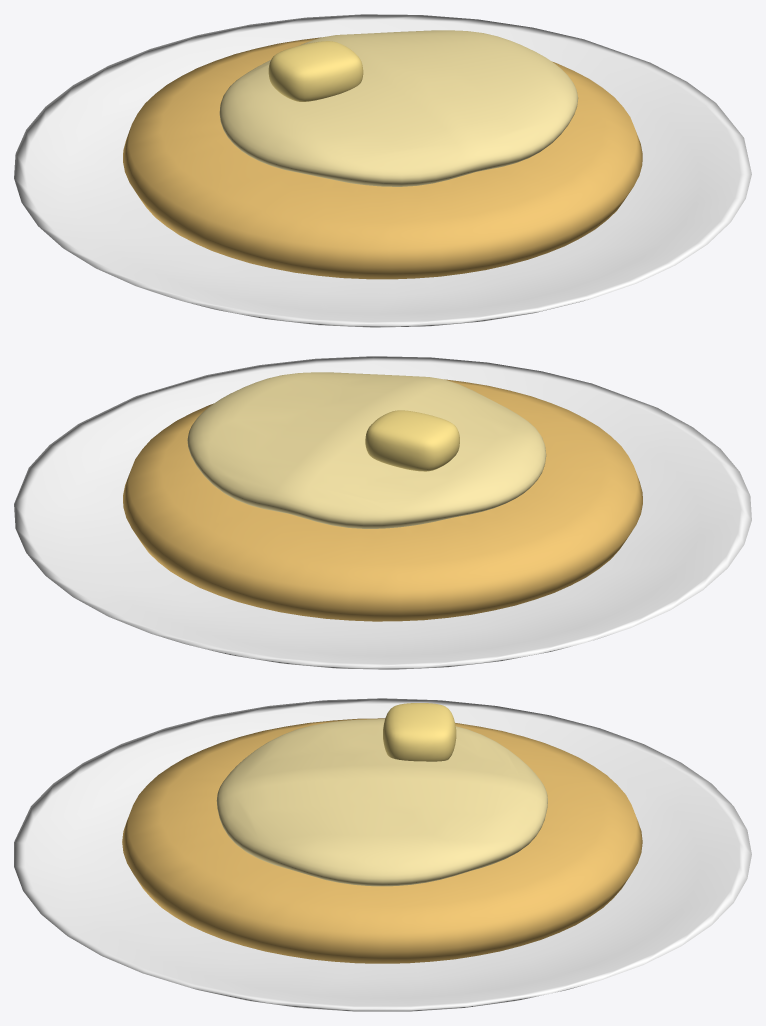
Rendered from comida_arepa_queso.glb.
3 views of the same model, one above another, from view 1: azimuth 30°, elevation 25°; view 2: azimuth 150°, elevation 25°; view 3: azimuth 270°, elevation 25° (orthographic).
Parts seen in each view (by area): view 1: plato.007, arepa.001, queso derretido.001, mantequilla.001; view 2: plato.007, arepa.001, queso derretido.001, mantequilla.001; view 3: plato.007, arepa.001, queso derretido.001, mantequilla.001.
Boxes of the visible parts, left/top/right/bottom form: plato.007: left=14, top=14, right=751, bottom=327; arepa.001: left=123, top=37, right=642, bottom=279; queso derretido.001: left=219, top=30, right=578, bottom=186; mantequilla.001: left=268, top=41, right=363, bottom=101; plato.007: left=14, top=356, right=751, bottom=669; arepa.001: left=123, top=379, right=642, bottom=621; queso derretido.001: left=187, top=372, right=546, bottom=528; mantequilla.001: left=365, top=410, right=459, bottom=471; plato.007: left=14, top=698, right=751, bottom=1011; arepa.001: left=122, top=718, right=642, bottom=963; queso derretido.001: left=216, top=719, right=547, bottom=886; mantequilla.001: left=383, top=703, right=456, bottom=761.
Size of the model in its own units: 0.3967 by 0.0959 by 0.3967.
